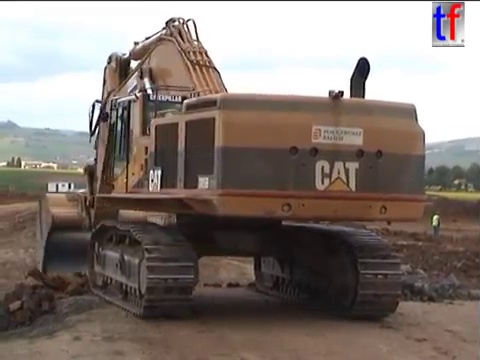excavator: (33, 14, 431, 323)
worker: (429, 209, 444, 240)
